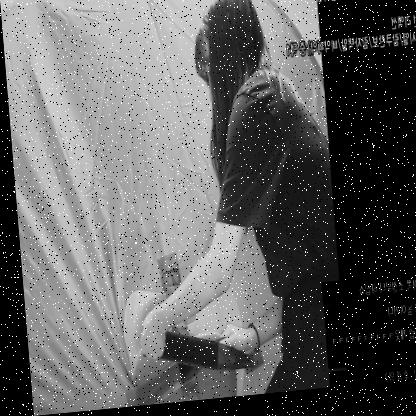streamer: (112, 0, 341, 408)
